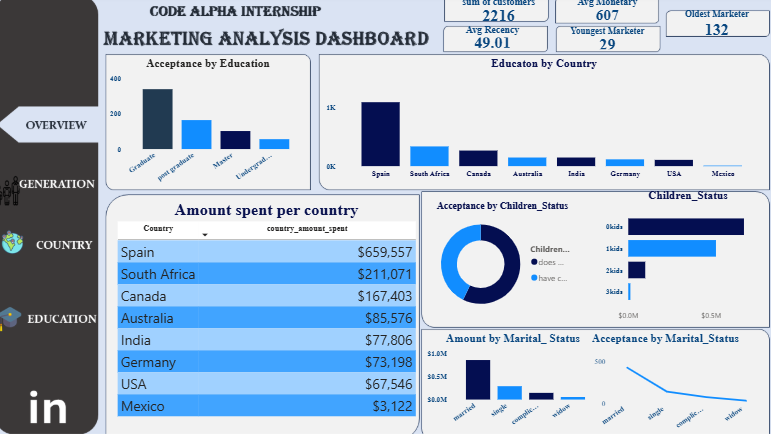

What the dashboard file says about the page in this screenshot:
{"tool":"powerbi","page":{"name":"Page 2","canvas":[1280,720],"ordinal":0},"visuals":[{"type":"tableEx","title":"Amount spent per country","fields":{"Values":["Amount by country.Country","Amount by country.country_amount_spent"]},"box":[199.9,334.3,498.9,386.4],"z":0},{"type":"columnChart","title":" Educaton by Country ","fields":{"Category":["Country by Education.Country"],"Y":["Sum(Country by Education.Educatonal_Country)"]},"box":[538.5,98.2,365,216.1],"z":1000},{"type":"clusteredColumnChart","title":"Acceptance by Education","fields":{"Category":["Acceptance by Education.Education"],"Y":["Sum(Acceptance by Education.Education_Acceptance_Campaign)"]},"box":[188.1,99.1,330.9,216.7],"z":2000},{"type":"donutChart","title":"Acceptance  by Children_Status","fields":{"Category":["Acceptance by Children-Status.Children_Status"],"Y":["Sum(Acceptance by Children-Status.Children_Acceptance)"]},"box":[698.9,315.9,258.6,225.9],"z":3000},{"type":"clusteredBarChart","title":"Children_Status ","fields":{"Category":["Amount by Children_status.concat((No_Children),  kids\")\""],"Y":["Sum(Amount by Children_status.Total_Amount_per_Children_Status)"]},"box":[998.5,315.9,281.5,225.9],"z":4000},{"type":"clusteredColumnChart","title":"Amount by Marital_ Status","fields":{"Category":["Amount by marital-status.Status"],"Y":["Sum(Amount by marital-status.Marital_amount_spent)"]},"box":[707.1,550,291.4,163.7],"z":5000},{"type":"lineChart","title":"Acceptance by Marital_Status","fields":{"Category":["Acceptance by Marital-status.Status"],"Y":["Sum(Acceptance by Marital-status.Marital_Status_Acceptance)"]},"box":[977.2,550,288.1,170.2],"z":6000},{"type":"card","title":"Avg Monetary","fields":{"Values":["Sum(AVG frequency.average_monetary)"]},"box":[927.5,0,158.5,45.5],"z":7000},{"type":"card","title":"sum of customers","fields":{"Values":["Sum(Total no of customers.count(Customer_ID))"]},"box":[735.3,0,188.9,45.5],"z":8000},{"type":"card","title":"Avg Recency","fields":{"Values":["Sum(AVG recency.avg_recency)"]},"box":[735.3,45.5,168.6,43.8],"z":9000},{"type":"card","title":"Youngest Marketer","fields":{"Values":["Sum(youngest marketer.youngest_marketer)"]},"box":[923.2,49.1,168.6,42.6],"z":10000},{"type":"card","title":"Oldest Marketer","fields":{"Values":["Sum(oldest marketer.oldest_marketer)"]},"box":[1108.1,21.3,157.1,49.1],"z":11000},{"type":"clusteredColumnChart","title":"Purchase by Education","fields":{"Category":["Education by webPurchase.Education"],"Y":["Sum(Education by webPurchase.Education_Purchase)"]},"box":[903.5,99.8,361.7,216.1],"z":12000}]}

Visuals, with their boxes in screenshot pixels (x1, y1, x2, y2), scaled from the page's 1280x720 canvas onto the 771x436 screenshot:
"Amount spent per country" tableEx: box=[120, 202, 421, 435]
" Educaton by Country " columnChart: box=[324, 59, 544, 190]
"Acceptance by Education" clusteredColumnChart: box=[113, 60, 313, 191]
"Acceptance  by Children_Status" donutChart: box=[421, 191, 577, 328]
"Children_Status " clusteredBarChart: box=[601, 191, 770, 328]
"Amount by Marital_ Status" clusteredColumnChart: box=[426, 333, 601, 432]
"Acceptance by Marital_Status" lineChart: box=[589, 333, 762, 435]
"Avg Monetary" card: box=[559, 0, 654, 28]
"sum of customers" card: box=[443, 0, 557, 28]
"Avg Recency" card: box=[443, 28, 544, 54]
"Youngest Marketer" card: box=[556, 30, 658, 56]
"Oldest Marketer" card: box=[667, 13, 762, 43]
"Purchase by Education" clusteredColumnChart: box=[544, 60, 762, 191]
